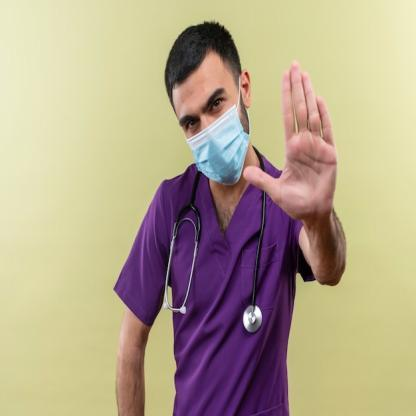stop: (242, 59, 340, 230)
